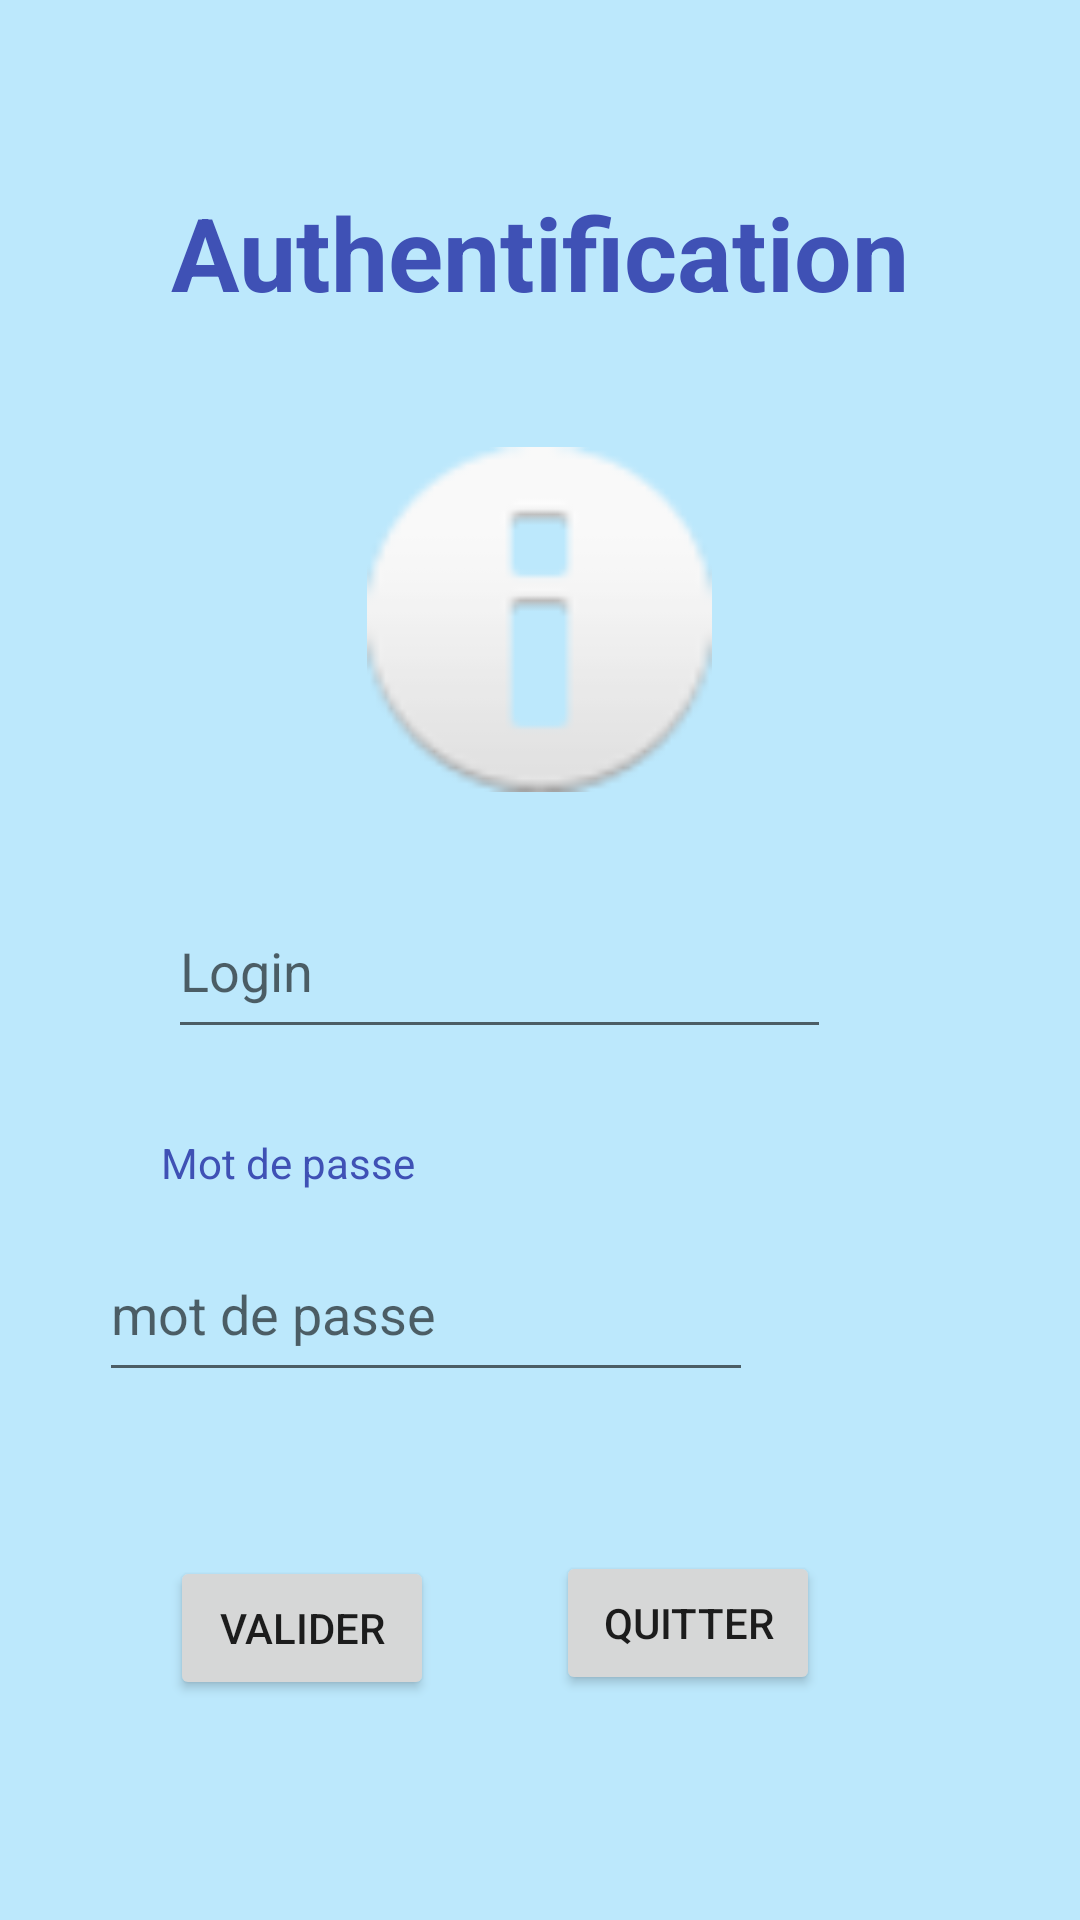

Screen size 1080*1920. Icon name, then its box in pixels as (x1,y1,x2,y2):
info: (367,447,712,792)
